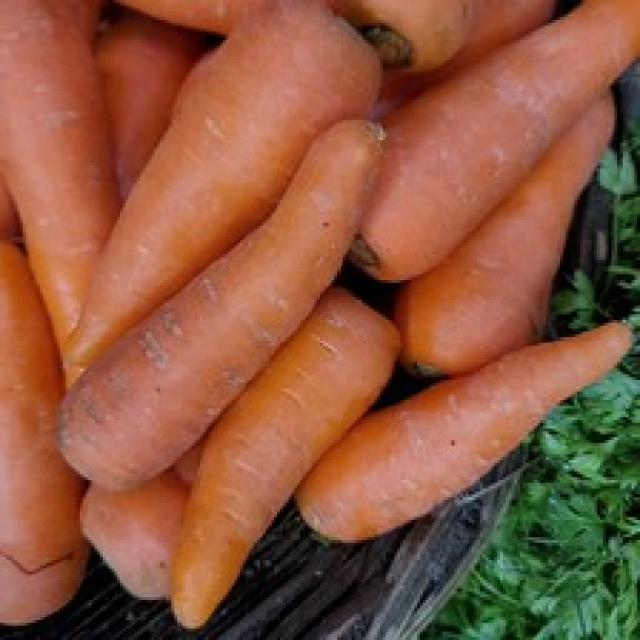Fresh_Carrot: (0, 5, 604, 584)
